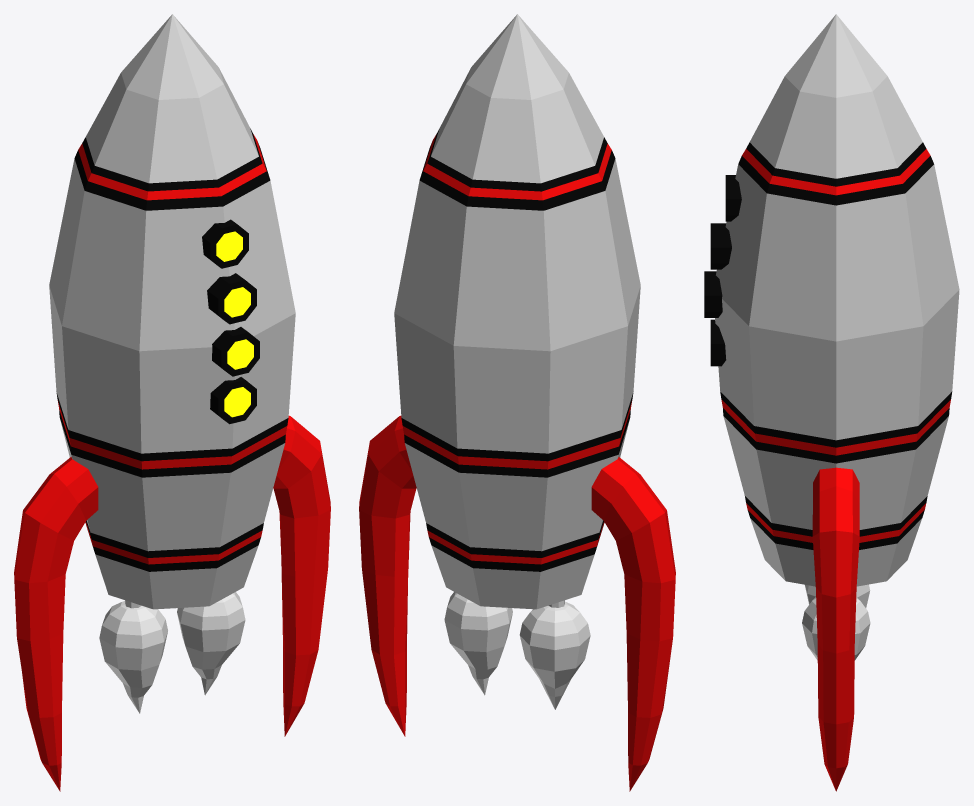
Rendered from rocket.fbx.
The picture shows the model from 3 angles, left to right: view 1: azimuth 30°, elevation 25°; view 2: azimuth 150°, elevation 25°; view 3: azimuth 270°, elevation 25°; orthographic projection. The views are drawn at different scales.
Visible parts, largest first — view 1: rocket; view 2: rocket; view 3: rocket.
Part boxes in pixels (x1,y1,x2,y2): rocket: [14, 14, 330, 791]; rocket: [359, 14, 675, 791]; rocket: [704, 14, 959, 791].
Size of the model in its own units: 2322 by 5265 by 1679.
